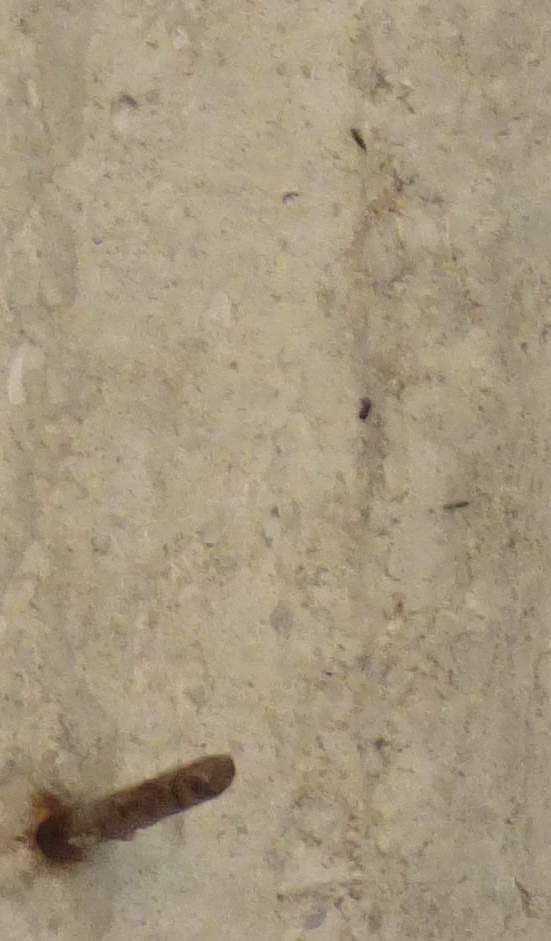Exposed reinforcement: (38, 751, 237, 854)
